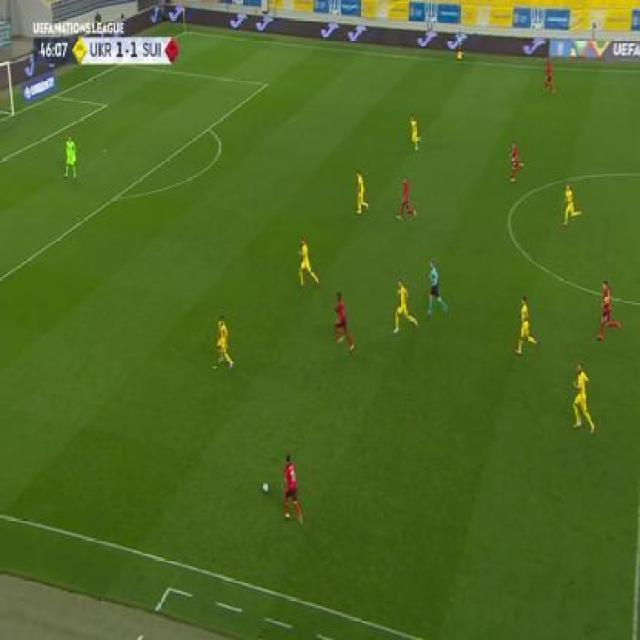ball: (262, 481, 270, 494)
player: (570, 361, 596, 435), (594, 279, 622, 342), (390, 278, 419, 337), (280, 452, 303, 526), (513, 295, 539, 357), (424, 259, 449, 321), (330, 292, 355, 351), (295, 237, 320, 291), (212, 315, 234, 372), (560, 182, 583, 228), (396, 175, 415, 223), (506, 140, 525, 185), (353, 170, 370, 215), (62, 133, 78, 179), (408, 112, 421, 151), (543, 60, 556, 93), (454, 30, 465, 61)
